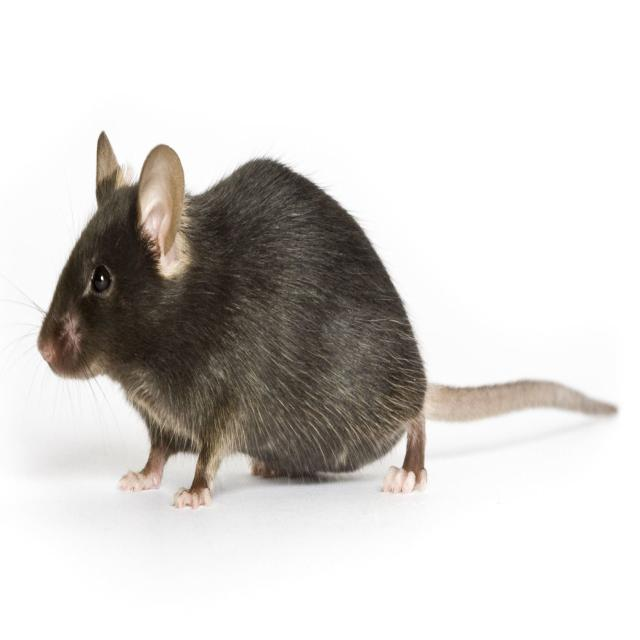Mouse: (35, 129, 618, 484)
